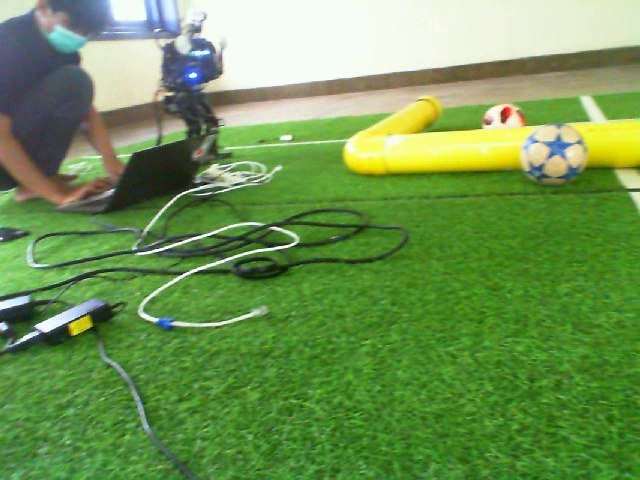ball: (520, 122, 590, 189), (481, 102, 520, 131)
